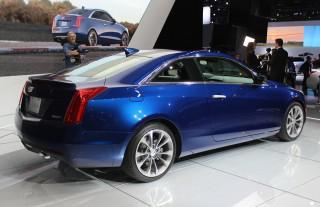cadillac: (24, 83, 37, 94)
